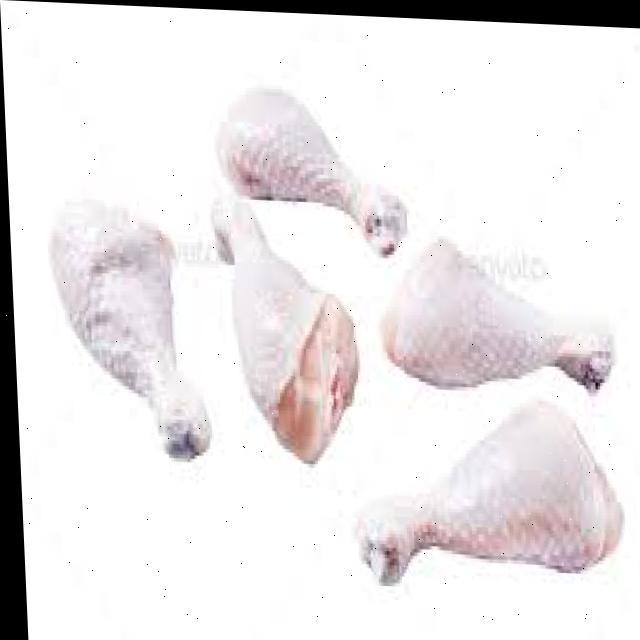leg: (38, 186, 206, 479), (349, 413, 621, 591), (372, 228, 620, 406), (207, 186, 360, 474), (206, 66, 410, 268)
